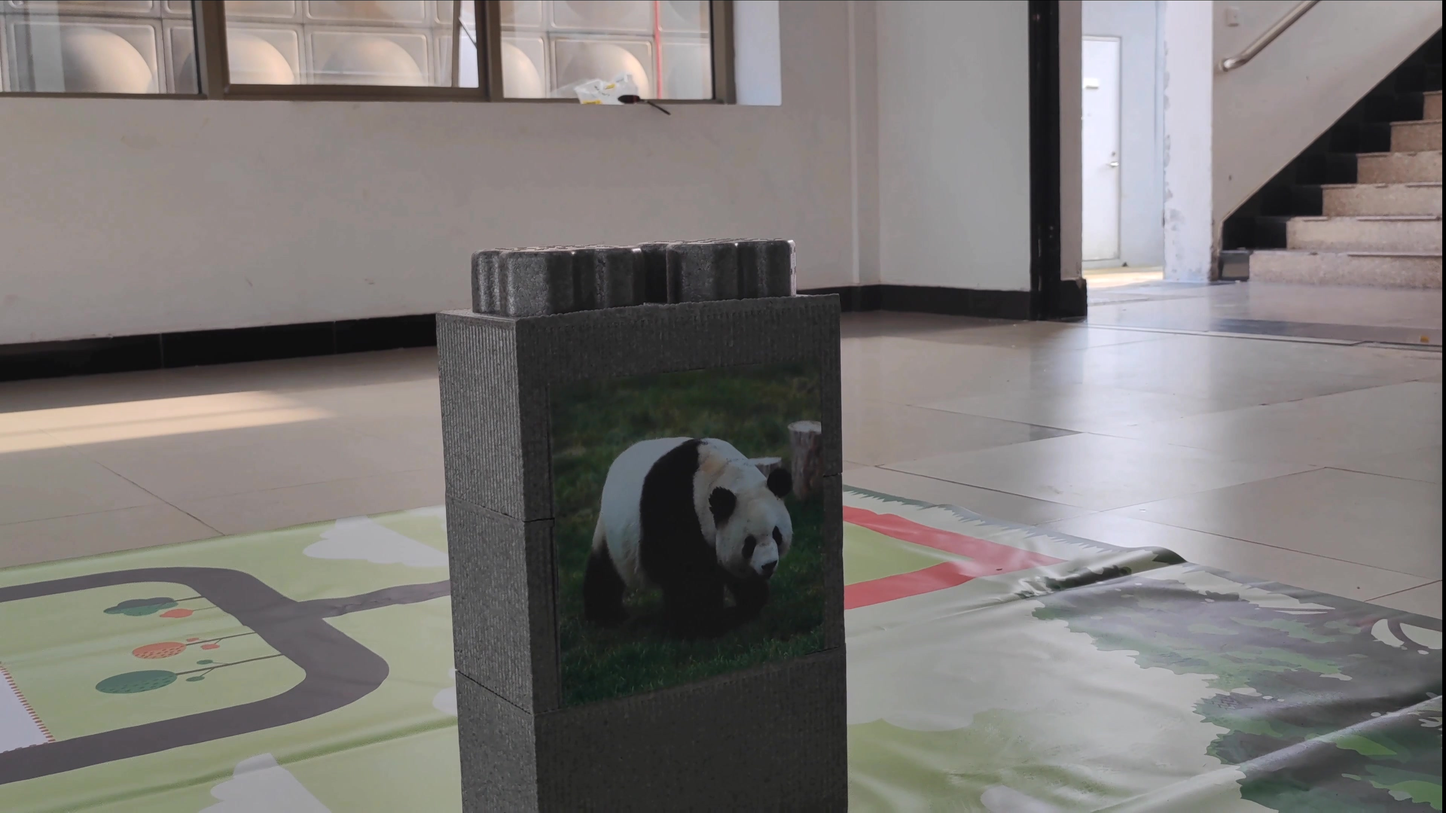panda: (585, 396, 814, 648)
